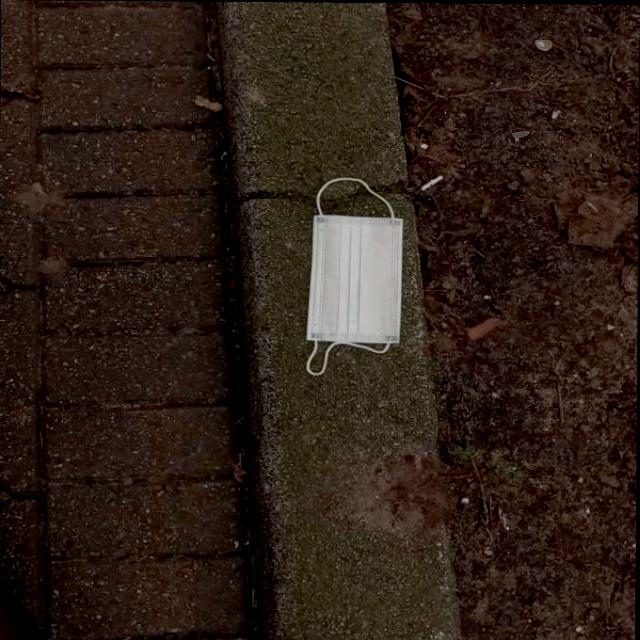Mask: (304, 170, 415, 375)
